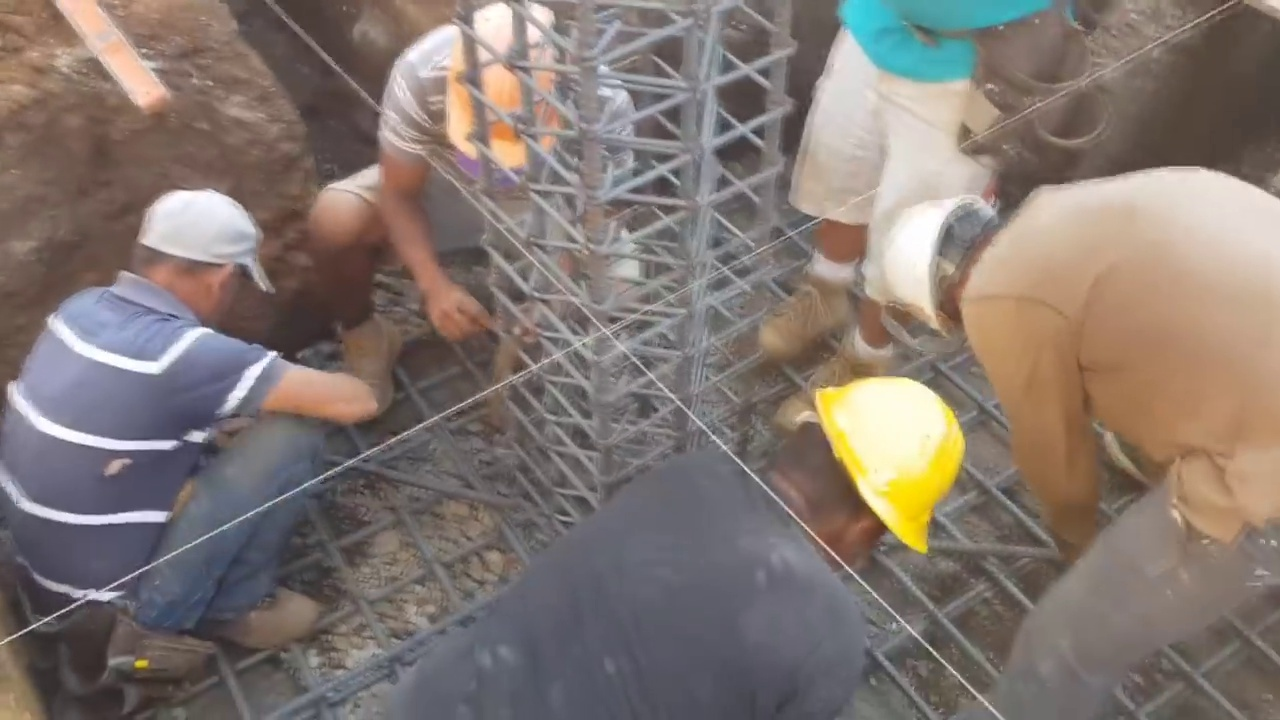helmet: (801, 376, 966, 563), (884, 192, 1002, 331), (444, 26, 562, 158)
helmet-off: (118, 176, 268, 322)
helmet-on: (726, 374, 967, 573), (422, 2, 578, 164), (878, 187, 1022, 332)
person: (878, 165, 1280, 718), (349, 374, 960, 720), (15, 166, 351, 699), (312, 6, 614, 379), (786, 0, 1050, 369)
